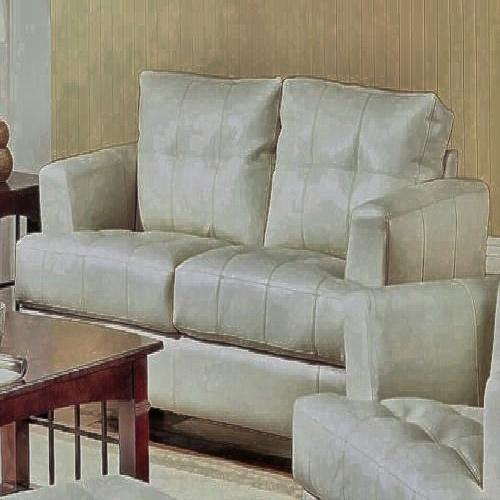sofa: (48, 72, 482, 389), (314, 249, 494, 485)
